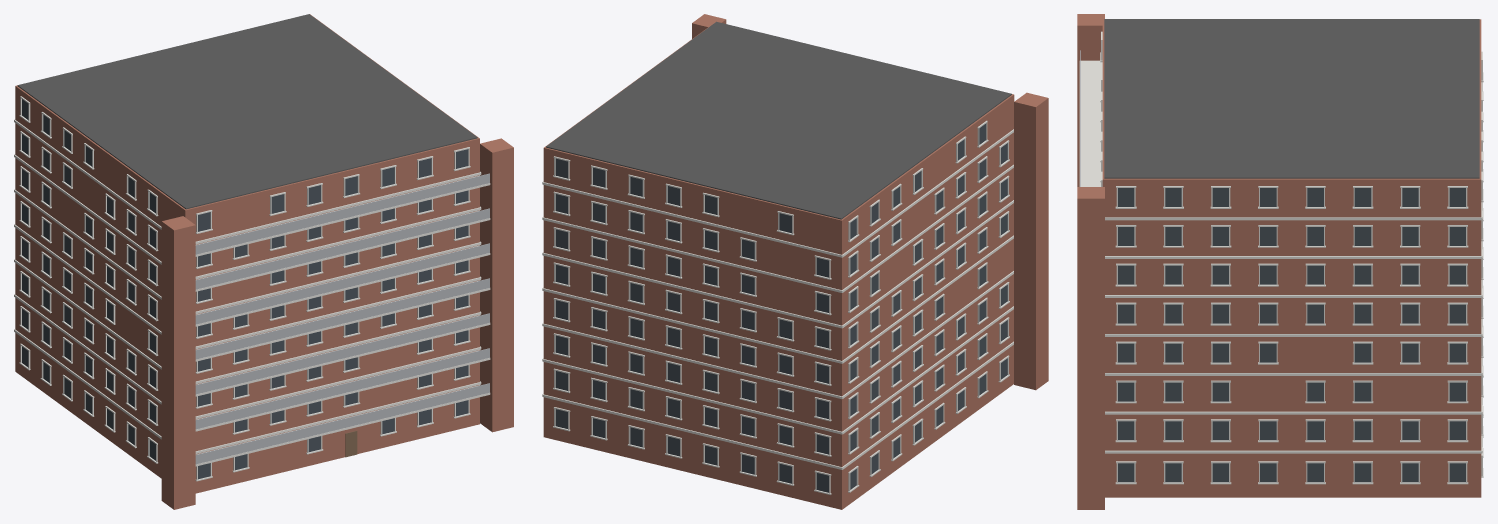
Rendered from SM_Apartment_8F_B.fbx.
3 views of the same model, side by side, from view 1: azimuth 30°, elevation 25°; view 2: azimuth 150°, elevation 25°; view 3: azimuth 270°, elevation 25° (orthographic). The views are drawn at different scales.
Visible parts, largest first — view 1: SM_Apartment_8F_B_LOD0; view 2: SM_Apartment_8F_B_LOD0; view 3: SM_Apartment_8F_B_LOD0.
Part boxes in pixels (left/top/right/bottom): SM_Apartment_8F_B_LOD0: left=14, top=14, right=513, bottom=509; SM_Apartment_8F_B_LOD0: left=542, top=14, right=1048, bottom=509; SM_Apartment_8F_B_LOD0: left=1077, top=14, right=1483, bottom=509.
Size of what is drawn, in the model's own units: 34.6 by 27.9 by 32.18.
